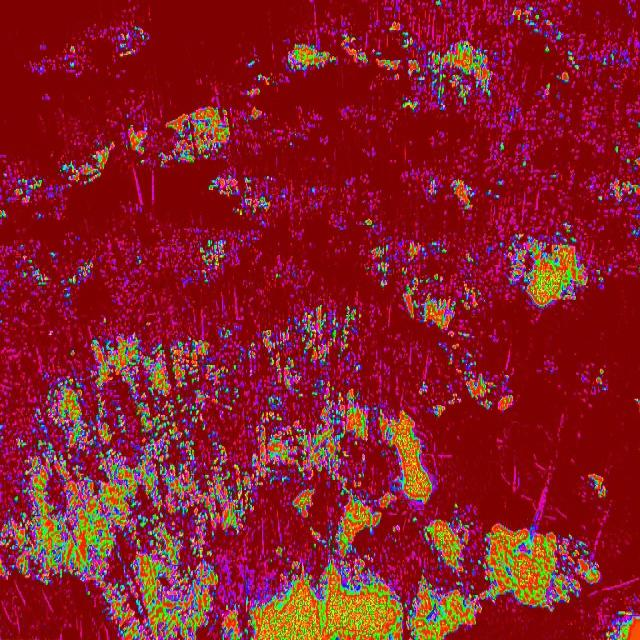fire: (0, 289, 434, 640), (434, 519, 606, 605), (370, 221, 486, 335), (0, 140, 114, 216), (401, 34, 497, 110), (508, 230, 604, 305), (516, 5, 584, 90), (158, 105, 241, 173), (205, 160, 278, 224), (454, 352, 516, 418), (14, 246, 100, 288), (342, 28, 399, 74), (282, 31, 334, 75), (444, 176, 488, 218), (195, 239, 238, 280), (435, 606, 485, 640), (600, 175, 640, 204), (125, 124, 152, 166), (600, 616, 640, 640)
